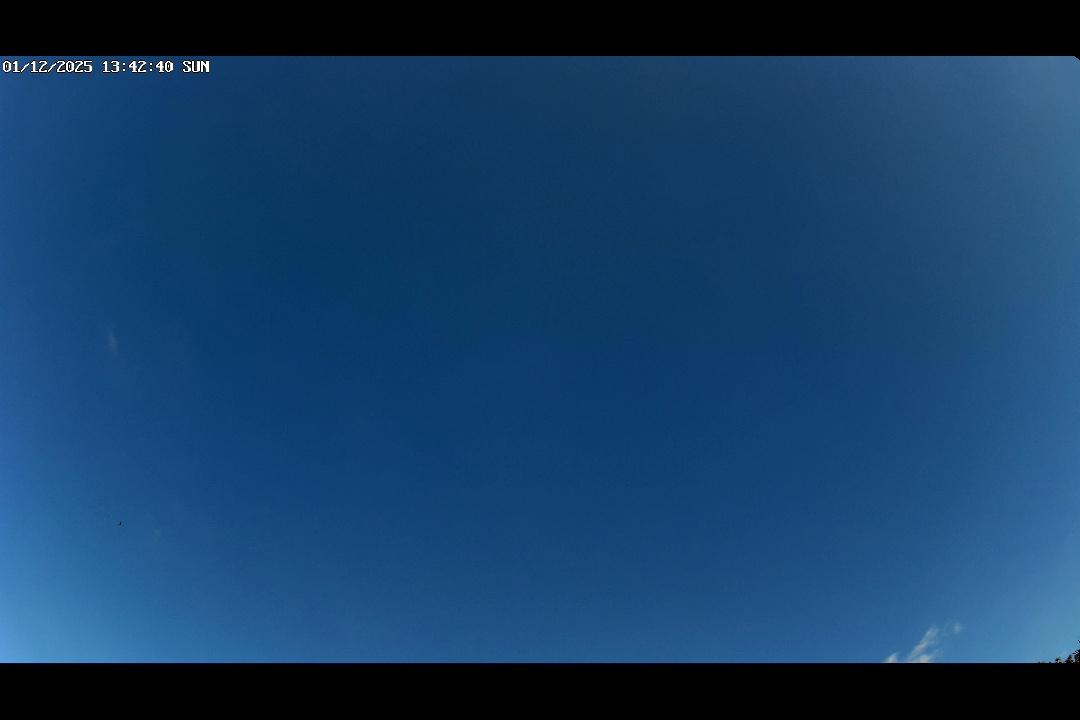WildLife: (109, 519, 131, 532)
